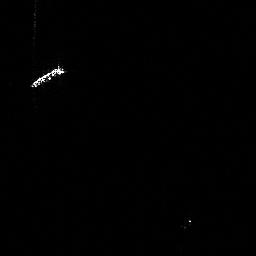ship: (27, 62, 67, 90)
